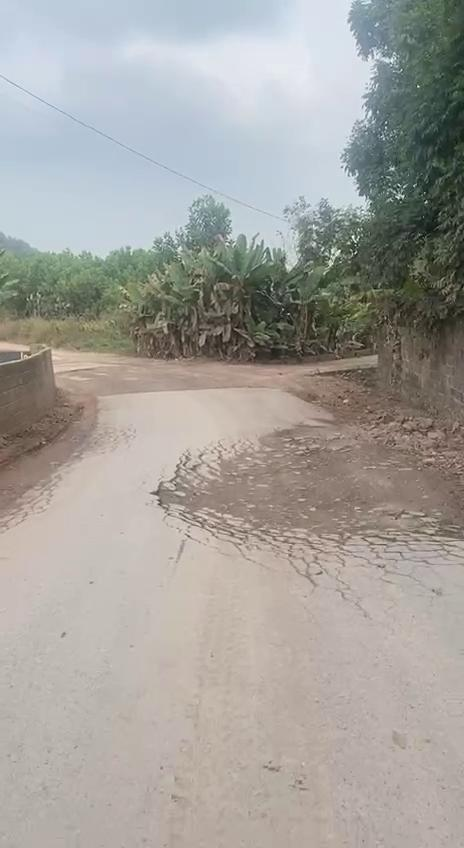pothole: (144, 416, 457, 549)
